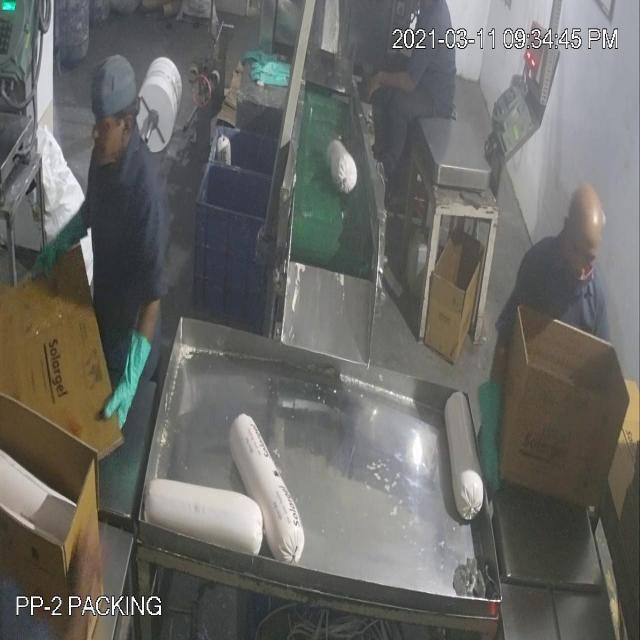No_Gloves: (37, 65, 491, 444)
